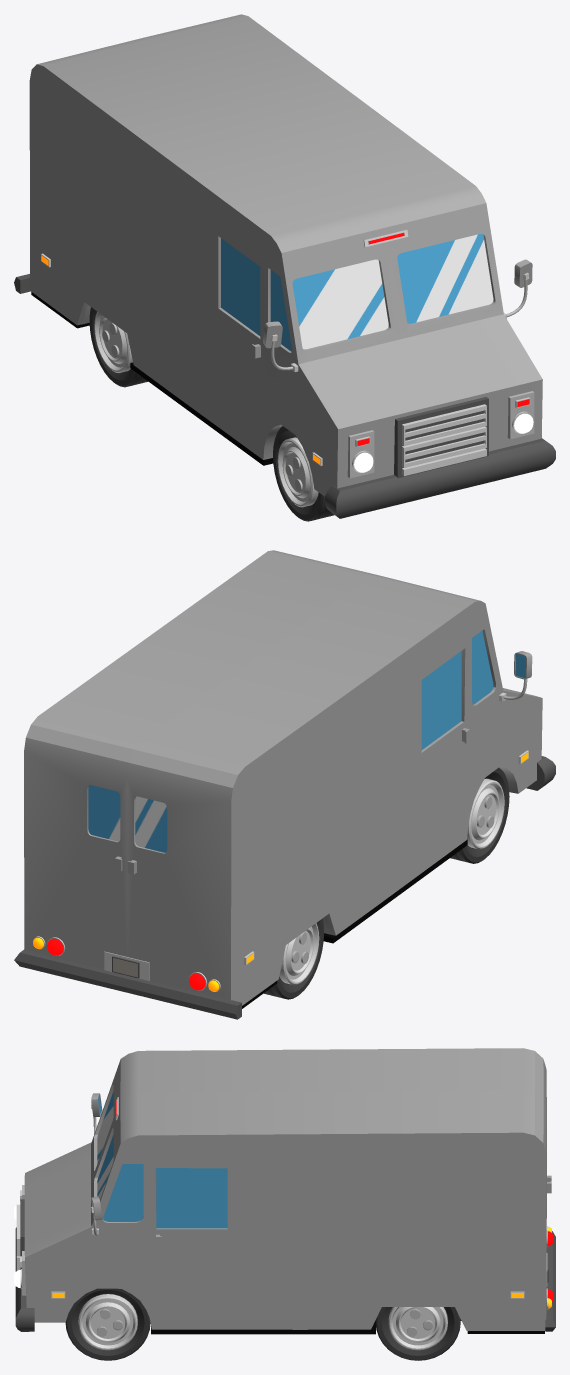
File: free_delivery_truck__vehicle__low_poly.glb
3 views of the same model, one above another, from view 1: azimuth 30°, elevation 25°; view 2: azimuth 150°, elevation 25°; view 3: azimuth 270°, elevation 25° (orthographic). The views are drawn at different scales.
Visible parts, largest first — view 1: Object_3, Object_11, Object_7, Object_6, Object_8, Object_9, Object_2, Object_5; view 2: Object_3, Object_11, Object_7, Object_6, Object_9, Object_2, Object_8; view 3: Object_3, Object_11, Object_6, Object_9, Object_7, Object_2, Object_8.
Boxes of the visible parts, bbox=[...] form: Object_3: bbox=[29, 14, 542, 496]; Object_11: bbox=[221, 234, 493, 351]; Object_7: bbox=[14, 274, 555, 518]; Object_6: bbox=[41, 229, 533, 507]; Object_8: bbox=[102, 280, 534, 491]; Object_9: bbox=[89, 307, 334, 521]; Object_2: bbox=[31, 292, 273, 465]; Object_5: bbox=[354, 413, 533, 472]; Object_3: bbox=[24, 550, 542, 1005]; Object_11: bbox=[88, 631, 525, 852]; Object_7: bbox=[14, 756, 555, 1019]; Object_6: bbox=[33, 692, 528, 991]; Object_9: bbox=[264, 767, 509, 999]; Object_2: bbox=[242, 839, 467, 1008]; Object_8: bbox=[291, 679, 527, 963]; Object_3: bbox=[24, 1048, 551, 1330]; Object_11: bbox=[97, 1091, 227, 1228]; Object_6: bbox=[16, 1097, 548, 1350]; Object_9: bbox=[65, 1288, 460, 1360]; Object_7: bbox=[15, 1199, 555, 1331]; Object_2: bbox=[151, 1319, 544, 1334]; Object_8: bbox=[22, 1117, 433, 1336].
Bounding box in the file's own units: 1.87 × 1.85 × 3.9.
11 materials, 1 textured.
